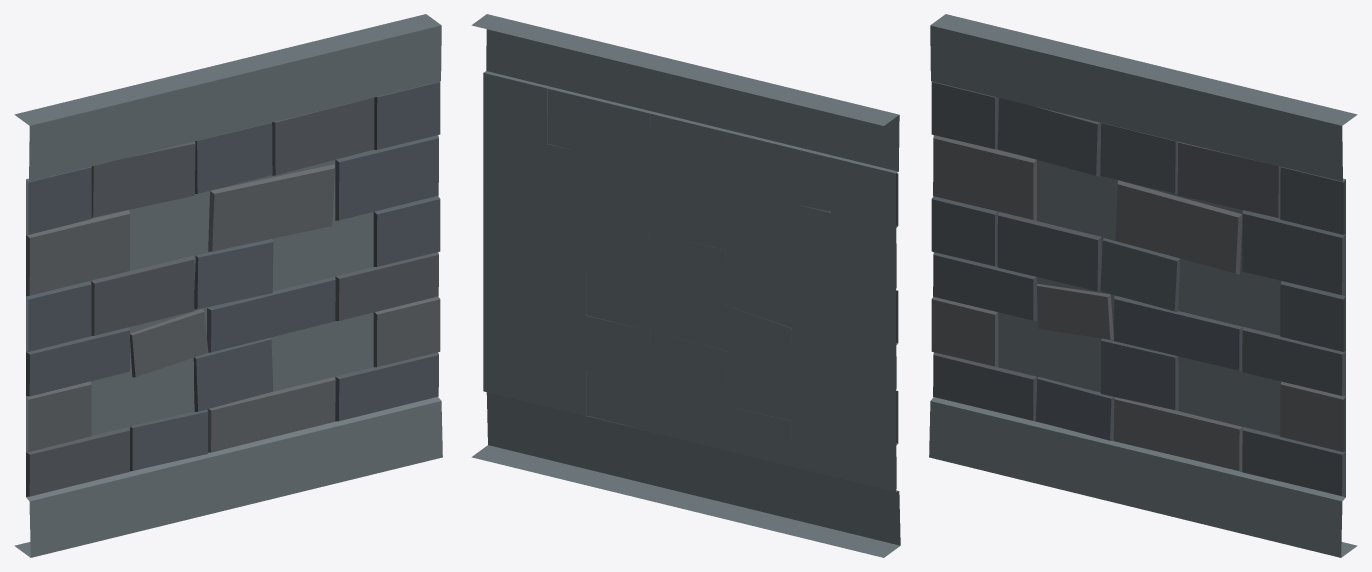
File: wall_2.glb
3 renders of one model, left to right at view 1: azimuth 30°, elevation 25°; view 2: azimuth 150°, elevation 25°; view 3: azimuth 330°, elevation 25°, orthographic.
Visible parts, largest first — view 1: Wall_2; view 2: Wall_2; view 3: Wall_2.
Boxes of the visible parts, left/top/right/bottom form: Wall_2: left=14, top=14, right=442, bottom=557; Wall_2: left=471, top=14, right=900, bottom=557; Wall_2: left=929, top=14, right=1357, bottom=557.
Size of the model in its own units: 2 by 2 by 0.1404.
Materials: 1 (1 with a texture image).
